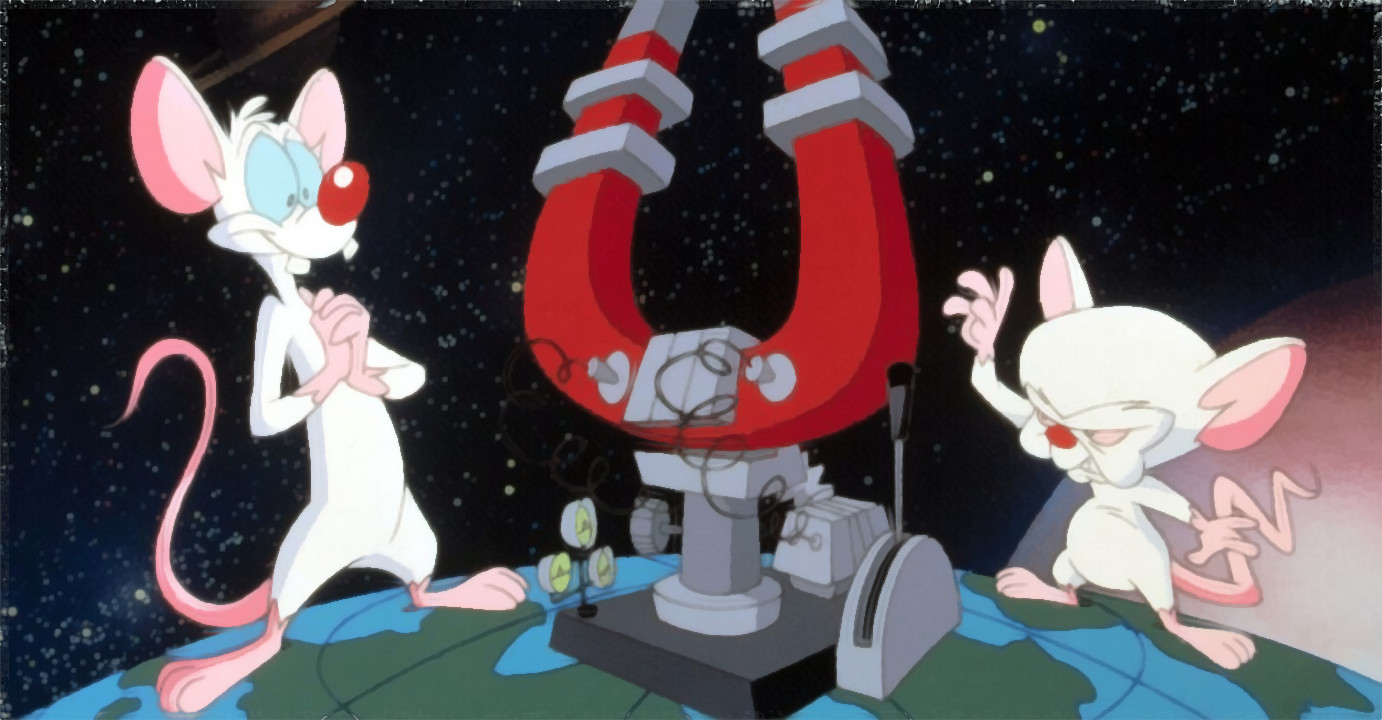cerebro: (949, 221, 1324, 688)
pink: (70, 21, 534, 707)
